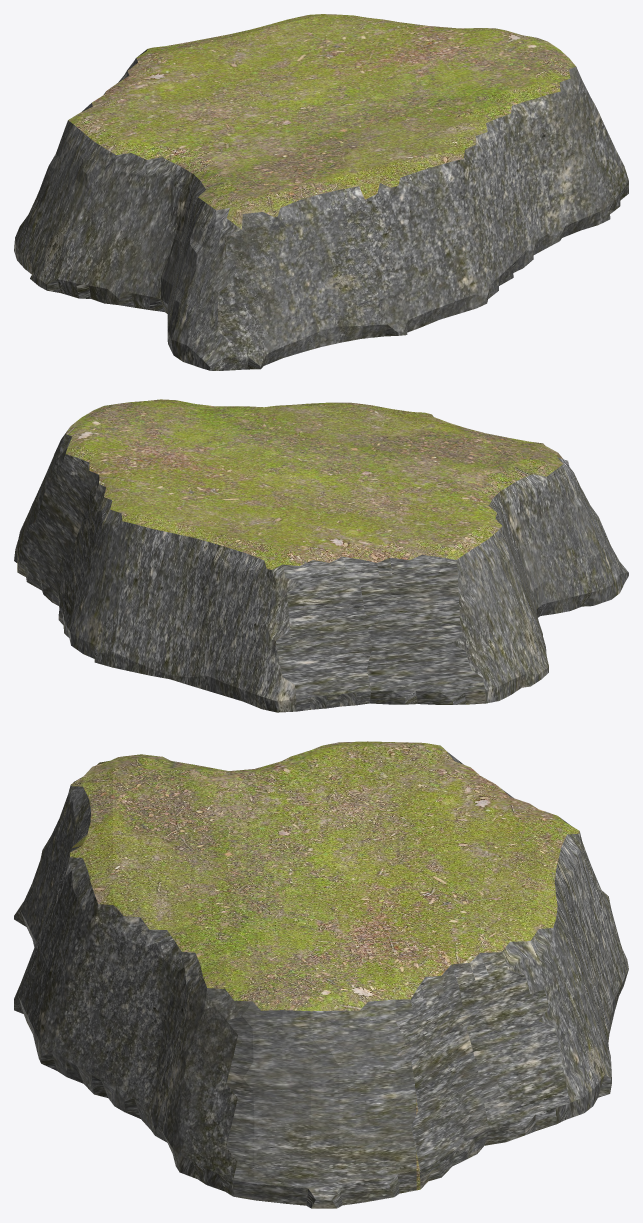
3 views of the same model, one above another, from view 1: azimuth 30°, elevation 25°; view 2: azimuth 150°, elevation 25°; view 3: azimuth 270°, elevation 25° (orthographic). The views are drawn at different scales.
Visible parts, largest first — view 1: patch-grass; view 2: patch-grass; view 3: patch-grass.
Boxes of the visible parts, <box> form: patch-grass: <box>14,14,628,370</box>; patch-grass: <box>14,399,628,712</box>; patch-grass: <box>14,741,628,1208</box>.
Bounding box in the file's own units: 5.15 × 1.25 × 3.98.
Materials: 1 (1 with a texture image).
